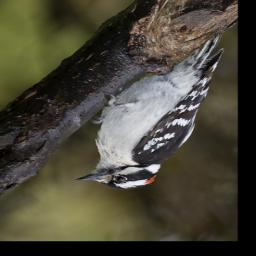Woodpecker: (75, 31, 223, 189)
